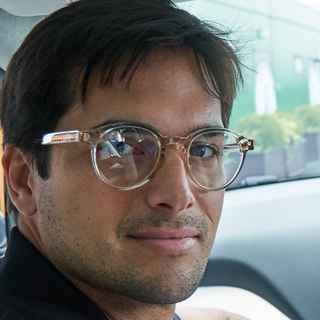eye: (185, 139, 222, 165)
